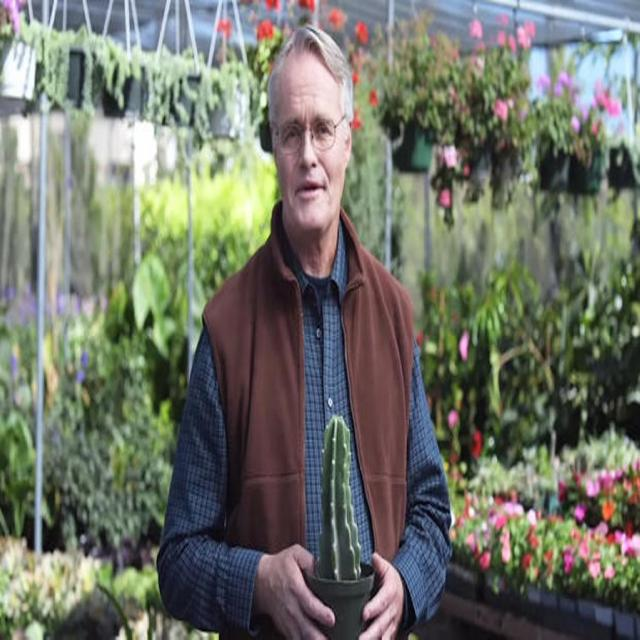Face: (271, 47, 358, 239)
